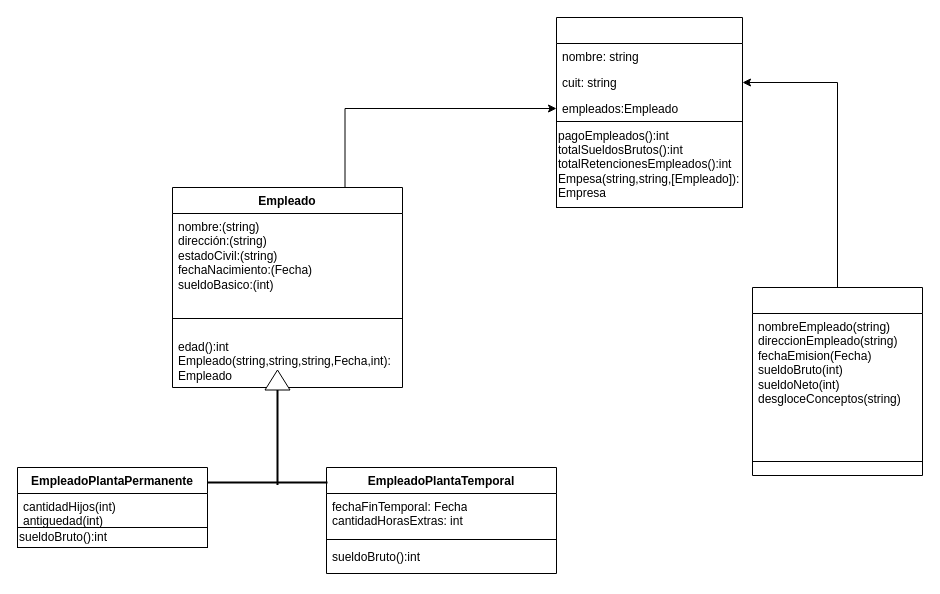
The diagram is 940 pixels wide and 594 high, and some of its shapes have lost their labels. The box of each missing label's shape, as (x1, y1, x2, y2) in pixels:
Empresa: (556, 16, 742, 122)
LiquidacionDeSueldo: (752, 286, 922, 476)
